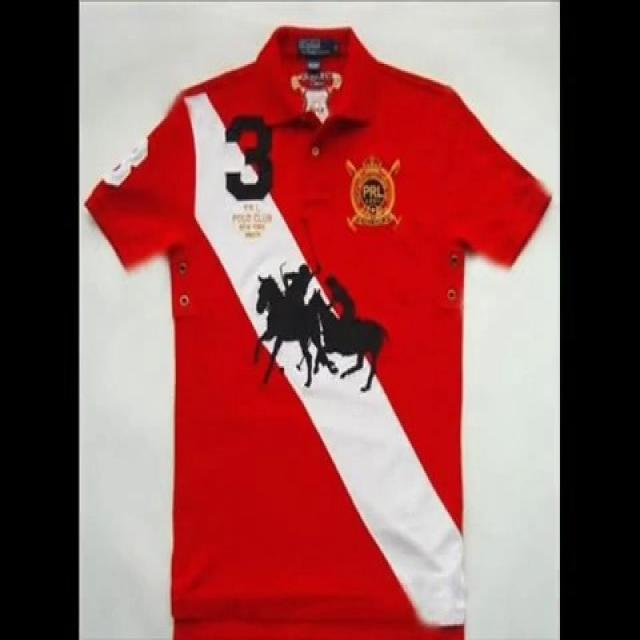shirt: (84, 25, 555, 640)
